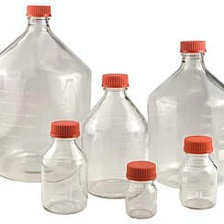bottle: (0, 2, 93, 184), (77, 63, 169, 200), (145, 36, 224, 191), (39, 117, 89, 217), (177, 131, 220, 210), (122, 158, 161, 222)
